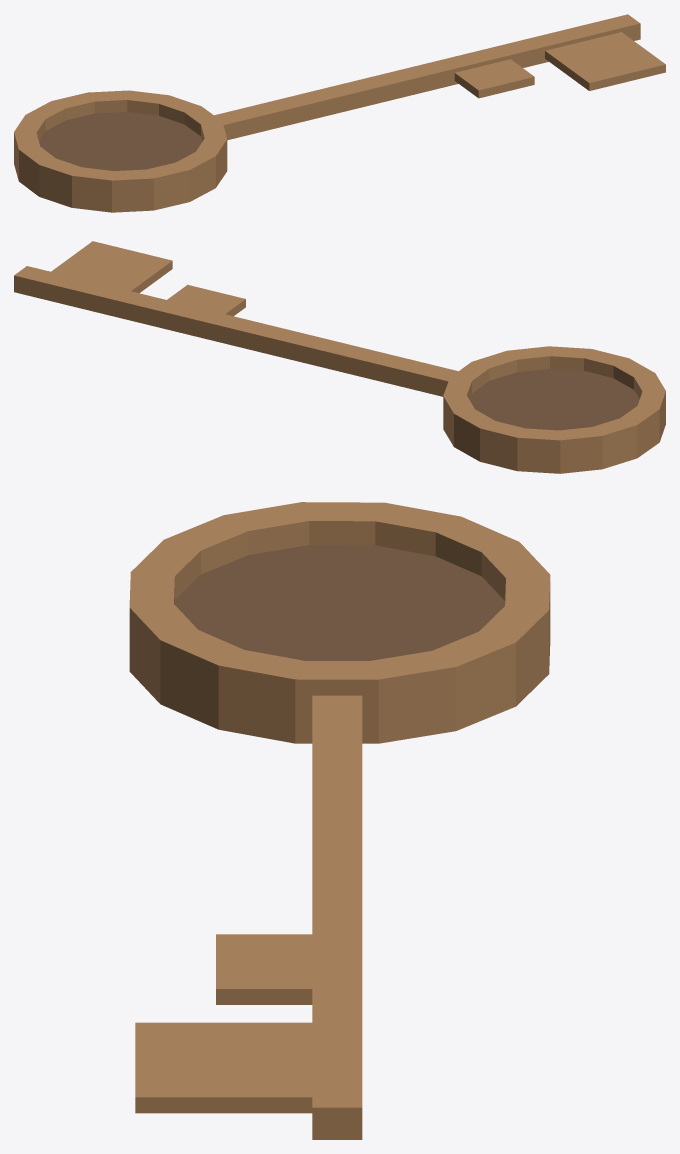
The model's file is Chave_Circular.fbx.
The picture shows the model from 3 angles, top to bottom: view 1: azimuth 30°, elevation 25°; view 2: azimuth 150°, elevation 25°; view 3: azimuth 270°, elevation 25°; orthographic projection. The views are drawn at different scales.
Visible parts, largest first — view 1: Chave_Circulo; view 2: Chave_Circulo; view 3: Chave_Circulo.
Part boxes in pixels (left/top/right/bottom): Chave_Circulo: left=14, top=14, right=665, bottom=212; Chave_Circulo: left=14, top=241, right=665, bottom=473; Chave_Circulo: left=129, top=502, right=550, bottom=1139.
Size of the model in its own units: 788 by 40 by 238.
